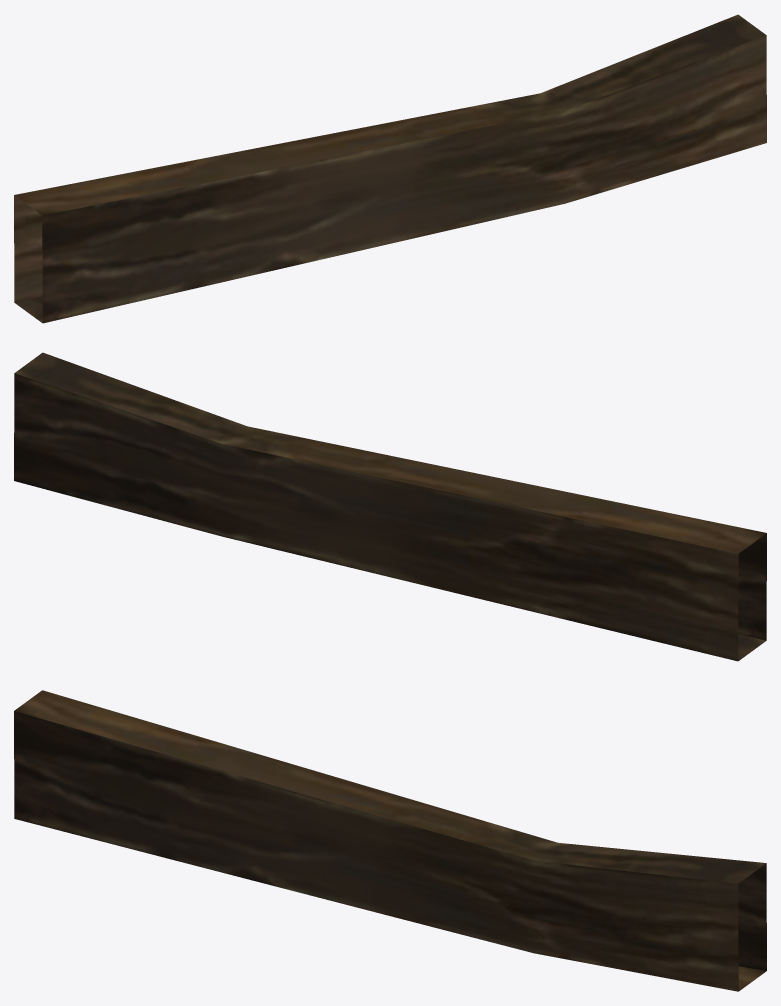
The model's file is Z_mutiao004.fbx.
The picture shows the model from 3 angles, top to bottom: view 1: azimuth 30°, elevation 25°; view 2: azimuth 150°, elevation 25°; view 3: azimuth 330°, elevation 25°; orthographic projection.
Parts seen in each view (by area): view 1: Z_mutiao004; view 2: Z_mutiao004; view 3: Z_mutiao004.
Boxes of the visible parts, x1,y1,x2,y2 form: Z_mutiao004: [14, 14, 766, 323]; Z_mutiao004: [14, 352, 766, 661]; Z_mutiao004: [14, 690, 766, 991].
Bounding box in the file's own units: 151 × 23.45 × 10.73.
